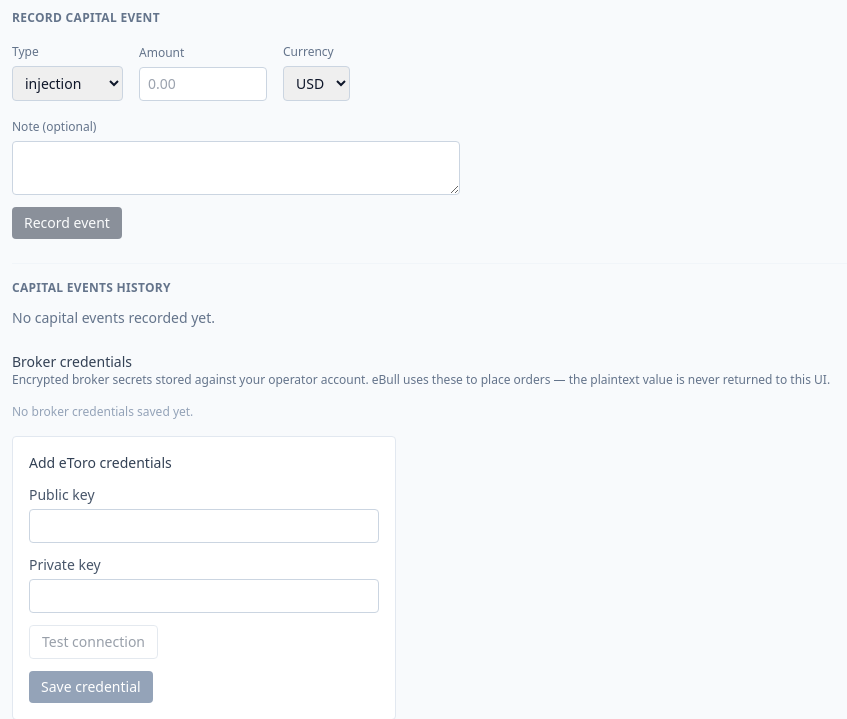
SettingsPage — test connection › shows environment check failure as amber warning
(page scrolled)
Check: the text "No broker credentials saved yet." is shown, box [12,403,193,420]
Type "test-api-key" into the password field labelled "Public key". click: (204, 526)
box: [29,509,379,543]
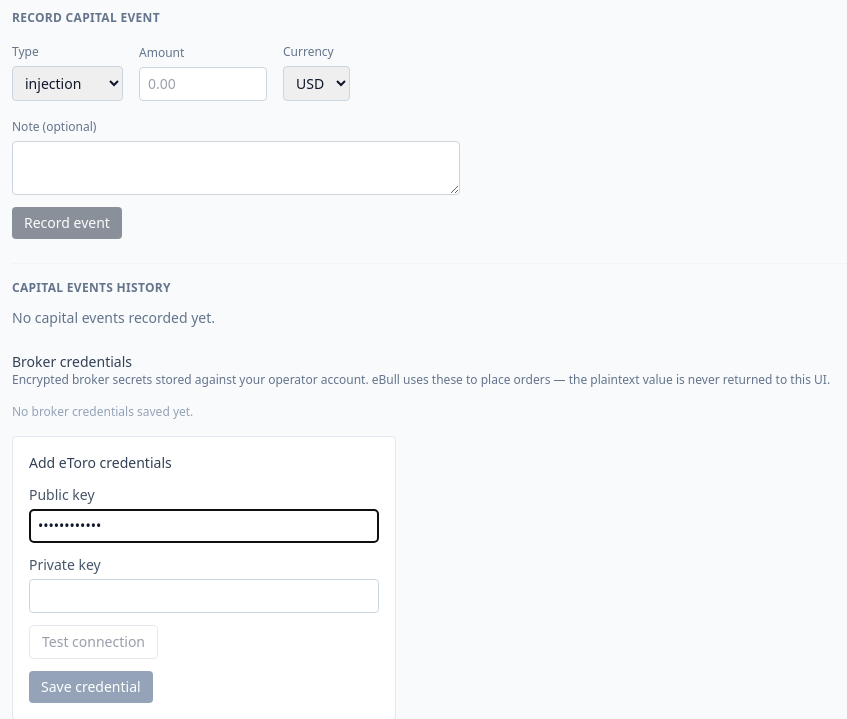
Type "test-user-key" into the password field labelled "Private key". click: (204, 596)
box: [29,579,379,613]
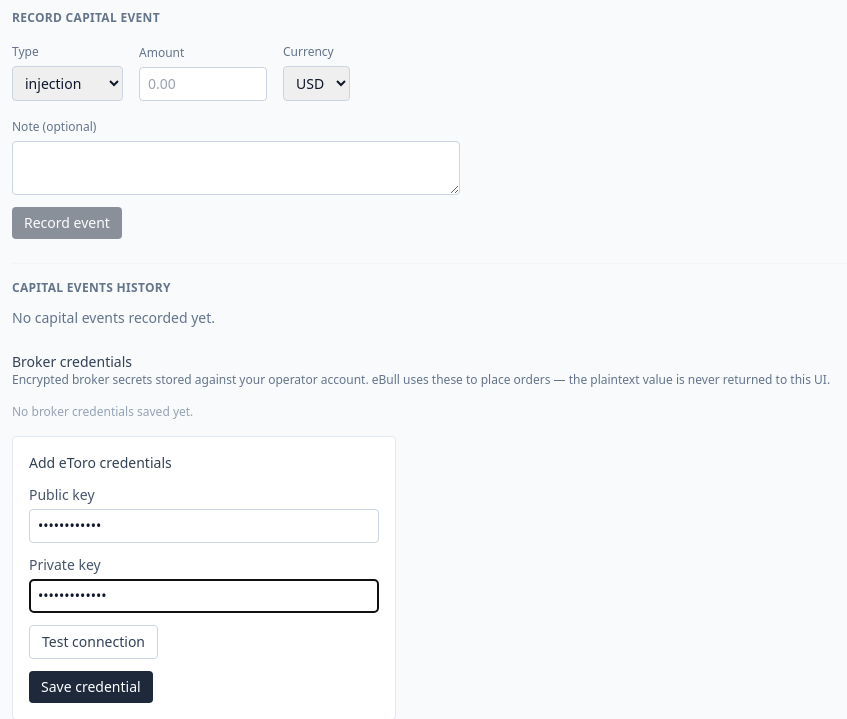
Click the button "Test connection". click: (94, 642)
box: [29,625,158,659]
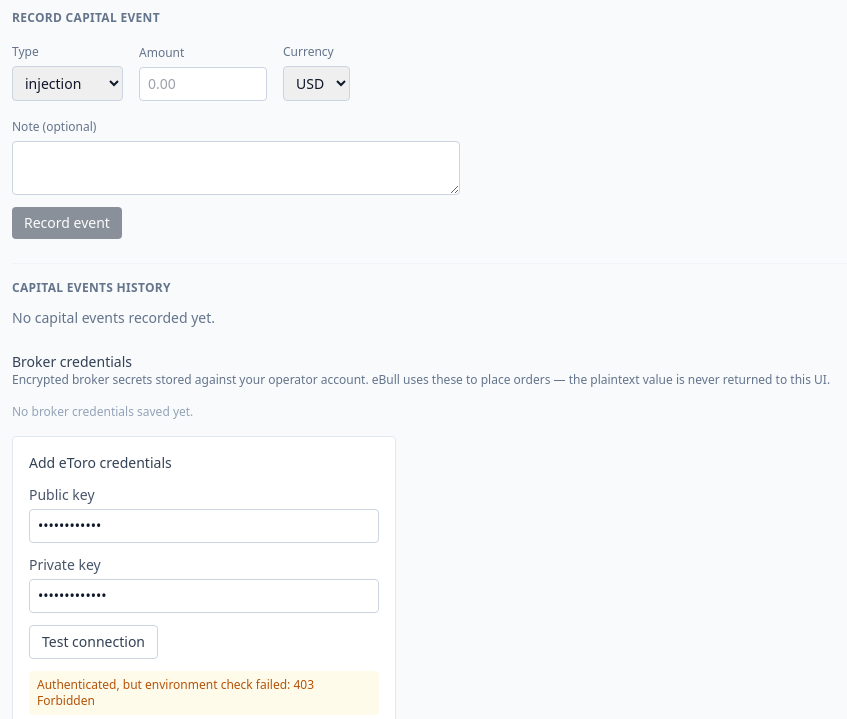
Check: the text "Authenticated, but environment check failed: 403 Forbidden" is shown, box [29,671,379,715]
